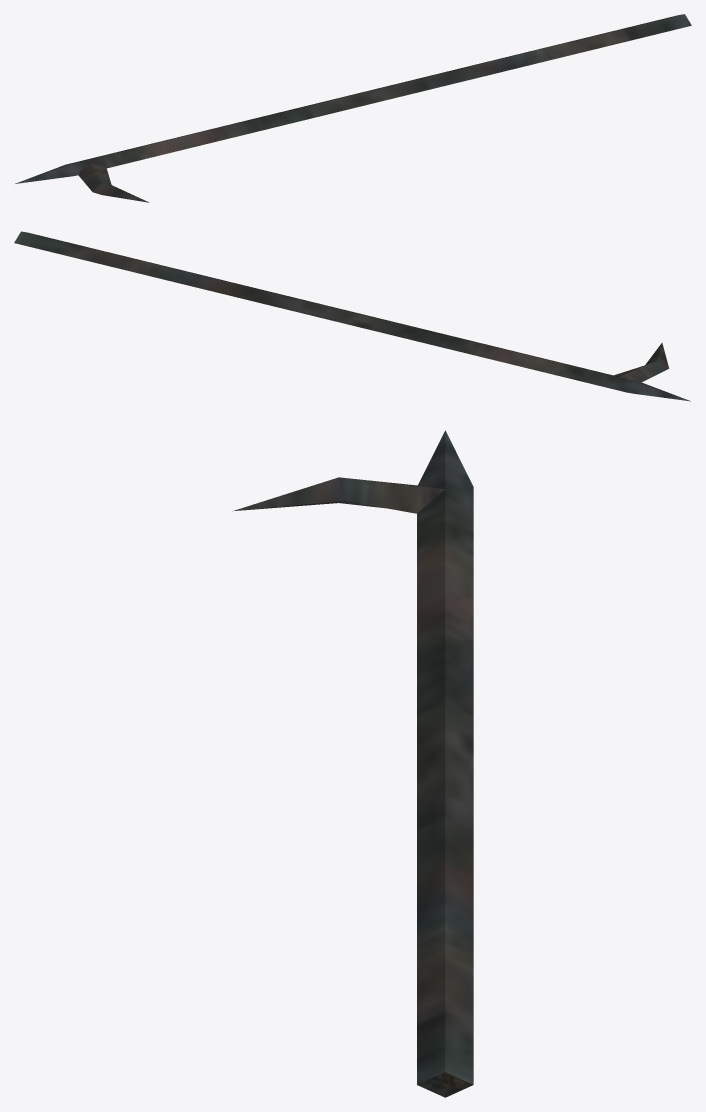
File: ITMW_005_1H_POKER_01.glb
3 views of the same model, one above another, from view 1: azimuth 30°, elevation 25°; view 2: azimuth 150°, elevation 25°; view 3: azimuth 270°, elevation 25° (orthographic). The views are drawn at different scales.
Parts seen in each view (by area): view 1: ITMW_005_1H_POKER_01; view 2: ITMW_005_1H_POKER_01; view 3: ITMW_005_1H_POKER_01.
Part boxes in pixels (box(x1,y1,x2,y2)): ITMW_005_1H_POKER_01: box(15, 14, 691, 202); ITMW_005_1H_POKER_01: box(14, 231, 690, 401); ITMW_005_1H_POKER_01: box(232, 430, 473, 1097).
Size of the model in its own units: 0.698 by 0.0128 by 0.1088.
1 material, 1 textured.
